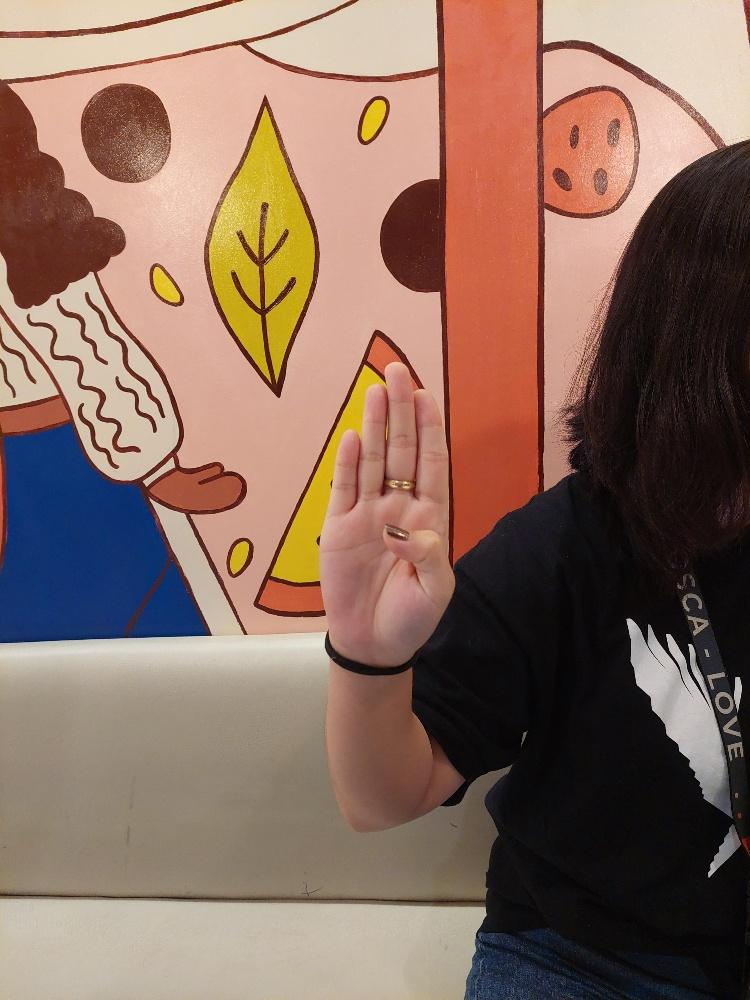b: (316, 358, 457, 663)
